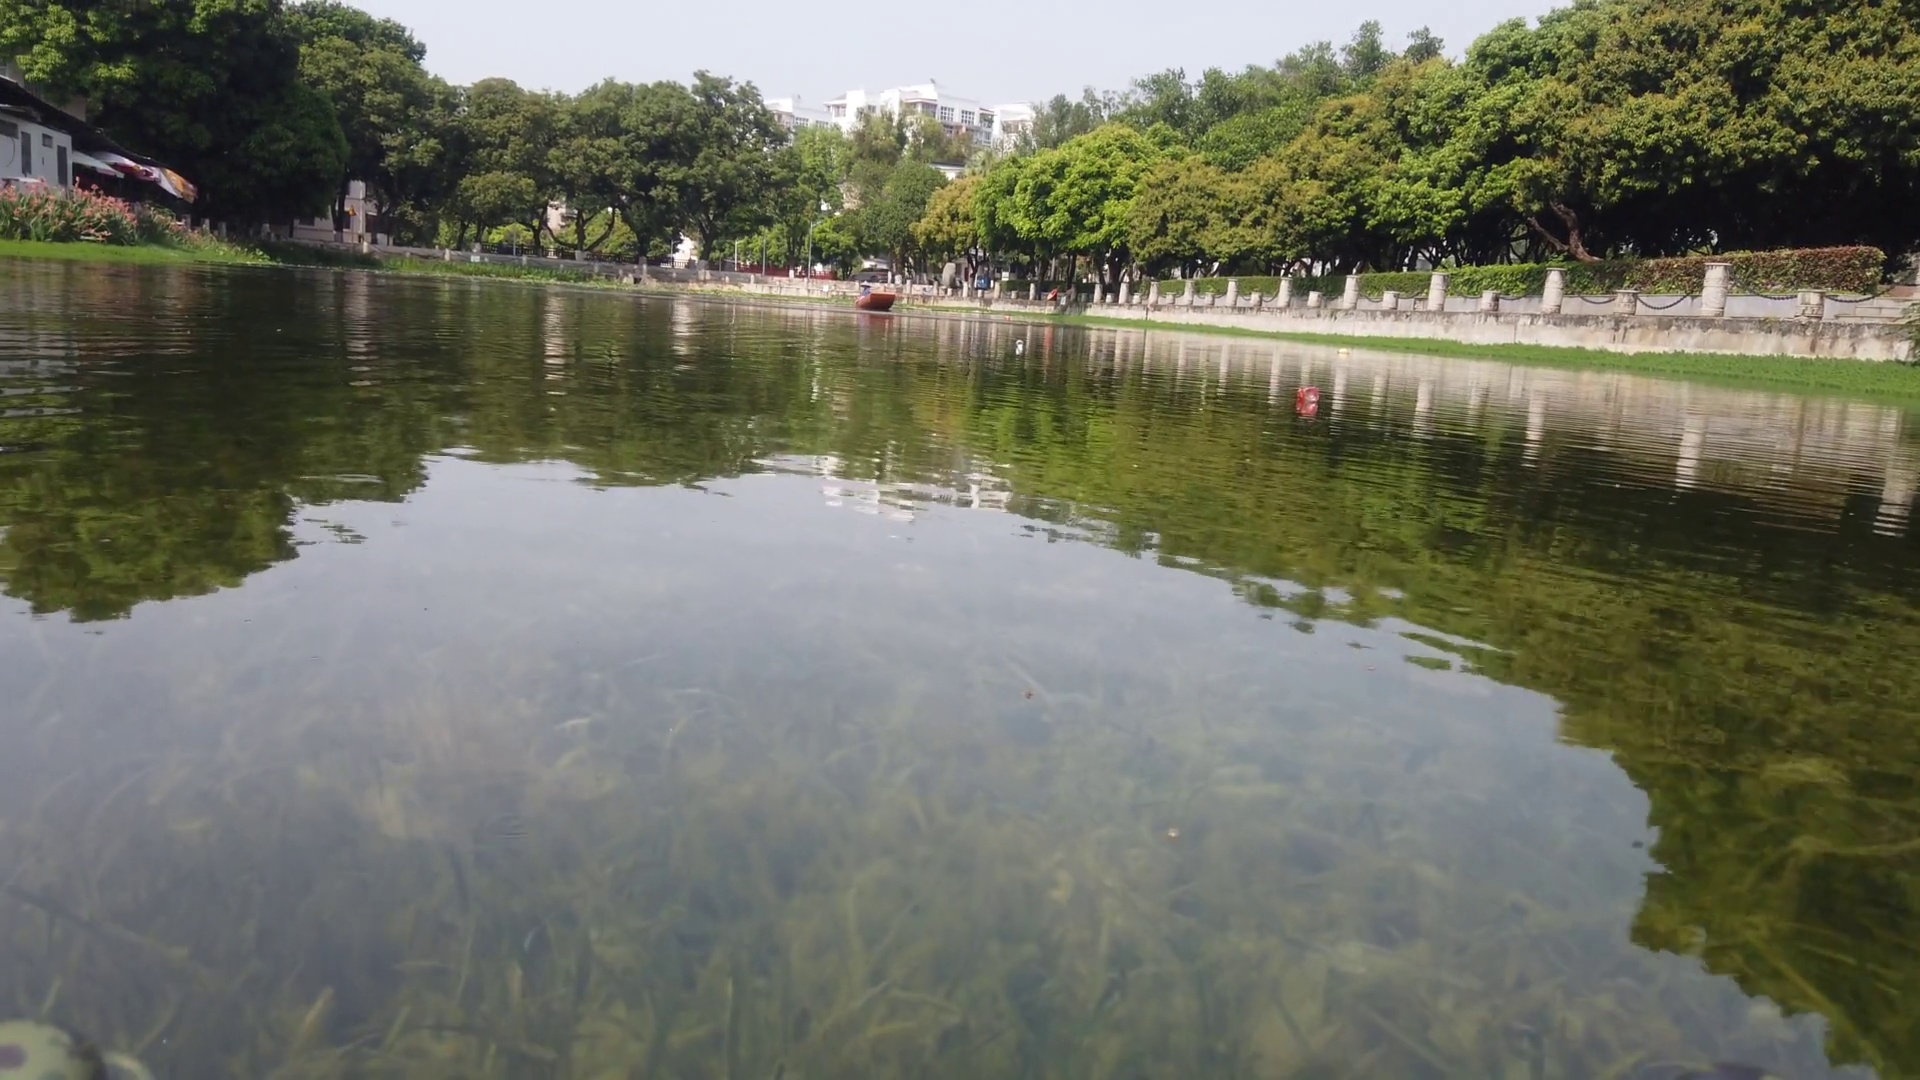bottle: (1294, 384, 1319, 404), (1336, 347, 1350, 355), (1017, 338, 1023, 345)
